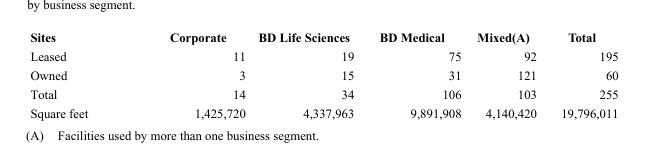table: (29, 29, 617, 119)
table column: (128, 29, 251, 119), (251, 29, 366, 119), (366, 29, 468, 119), (29, 29, 128, 119), (468, 29, 548, 119), (548, 29, 617, 119)
table column header: (29, 29, 617, 45)
table row: (29, 64, 617, 84), (29, 45, 617, 64), (29, 84, 617, 103), (29, 29, 617, 45), (29, 103, 617, 119)
